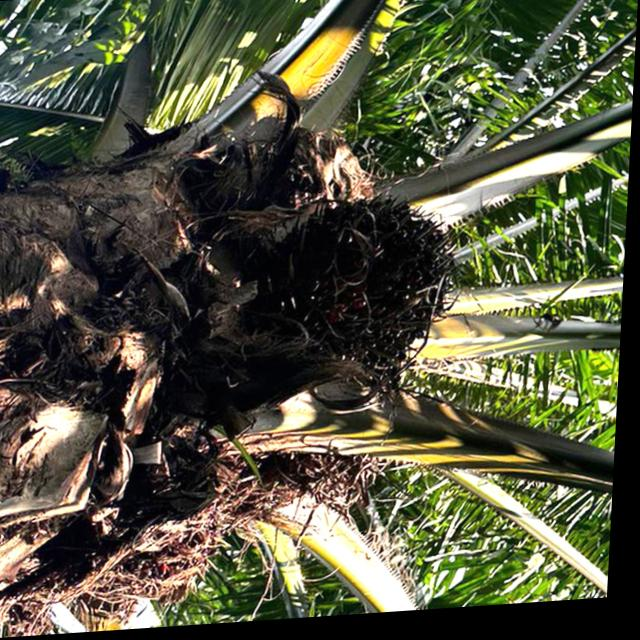ripe: (267, 198, 469, 396)
